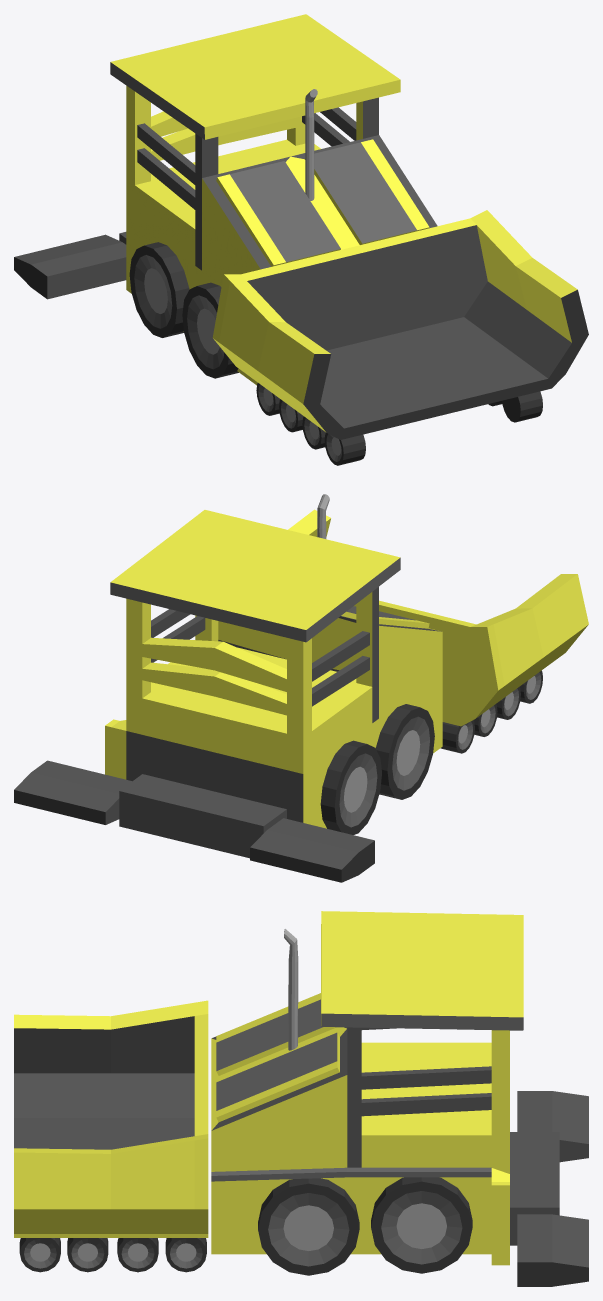
The model's file is roadpaver.fbx.
The picture shows the model from 3 angles, top to bottom: view 1: azimuth 30°, elevation 25°; view 2: azimuth 150°, elevation 25°; view 3: azimuth 270°, elevation 25°; orthographic projection. The views are drawn at different scales.
Parts seen in each view (by area): view 1: Cube.002; view 2: Cube.002; view 3: Cube.002.
Boxes of the visible parts, x1,y1,x2,y2 form: Cube.002: (14, 14, 588, 465); Cube.002: (14, 494, 588, 882); Cube.002: (14, 911, 588, 1286).
Bounding box in the file's own units: 3.26 × 2.3 × 1.82.
